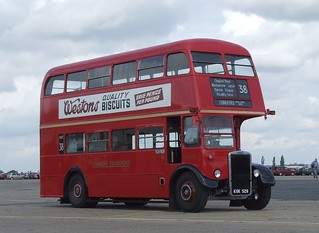bus: (40, 37, 275, 212)
